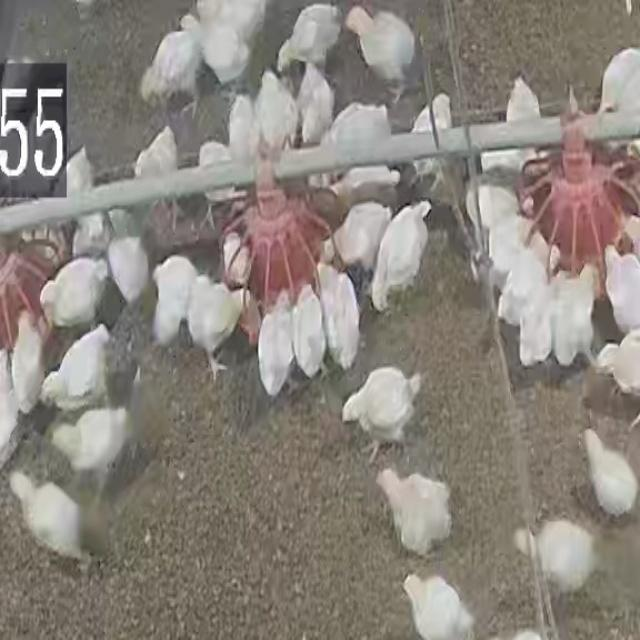chicken: (39, 322, 115, 413), (10, 466, 81, 563), (373, 196, 433, 302), (346, 364, 414, 452), (372, 471, 449, 548), (190, 283, 253, 376), (50, 403, 128, 478), (349, 11, 410, 105), (140, 126, 188, 223), (516, 520, 590, 582), (332, 198, 391, 274), (44, 258, 107, 328), (326, 101, 392, 167), (584, 426, 634, 512), (506, 242, 555, 328), (143, 38, 201, 108), (469, 180, 522, 254), (526, 271, 566, 367), (406, 578, 469, 638), (10, 314, 47, 414), (284, 2, 342, 65), (105, 231, 150, 312), (561, 270, 598, 366), (319, 266, 355, 363), (328, 164, 400, 212), (189, 17, 243, 81), (197, 138, 242, 213), (599, 47, 640, 125), (503, 76, 546, 148), (494, 221, 541, 285), (602, 250, 640, 326), (258, 71, 292, 152), (151, 260, 208, 308), (264, 293, 290, 396), (292, 282, 321, 372), (297, 75, 337, 139), (226, 94, 257, 174), (411, 94, 454, 142)
